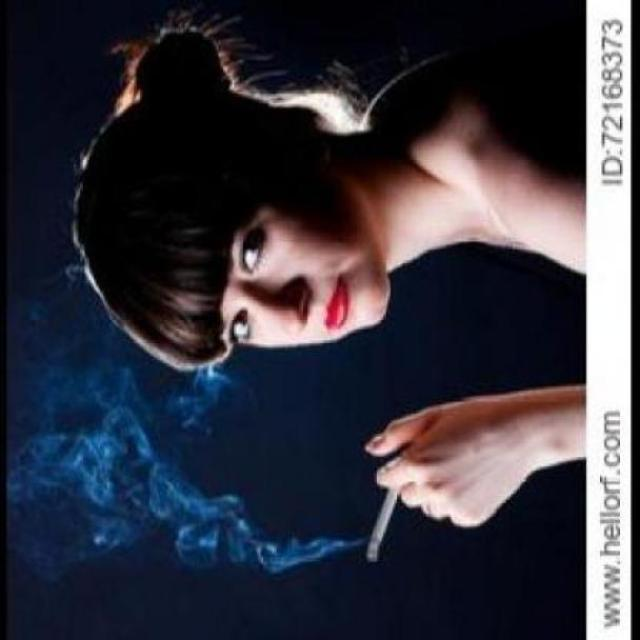rokok: (363, 473, 405, 563)
